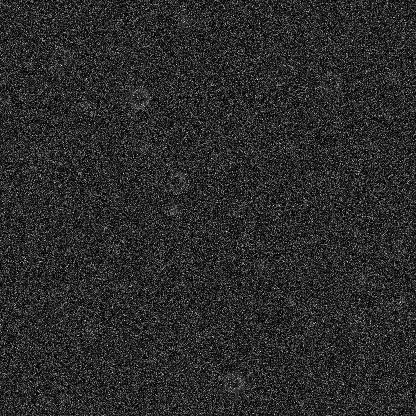Ring: (221, 370, 245, 394), (126, 86, 150, 110), (287, 136, 311, 160), (165, 170, 189, 194), (381, 303, 405, 327), (126, 127, 150, 151), (49, 44, 73, 68), (318, 69, 342, 93), (380, 237, 404, 261), (230, 375, 254, 399)
Spot: (82, 325, 98, 341), (136, 139, 152, 155), (354, 270, 370, 286), (165, 200, 181, 216), (77, 97, 93, 113), (384, 68, 400, 84), (177, 13, 193, 29), (101, 24, 117, 40), (145, 145, 161, 161), (16, 331, 32, 347), (254, 257, 270, 273)
